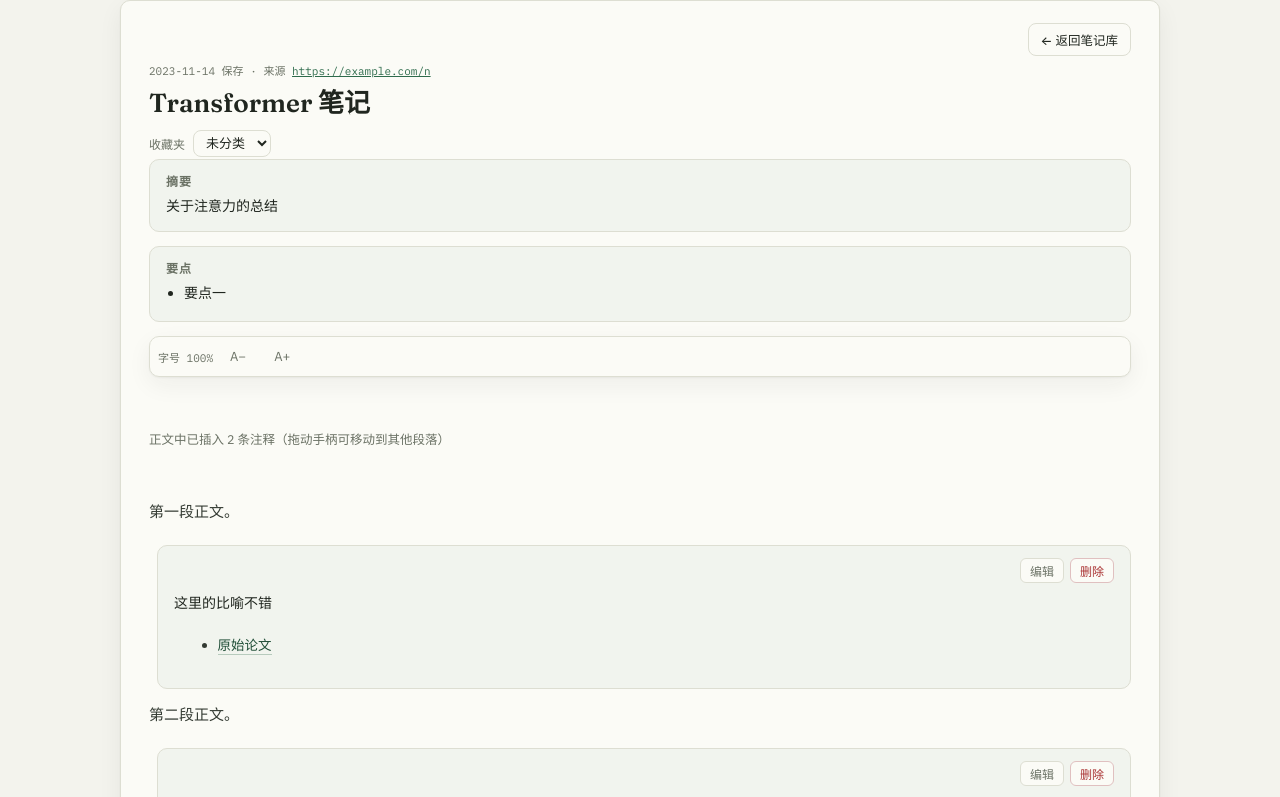
Test: NoteView 内联注释(编辑/确认) › 删除需两步确认：先点删除出现确认，点“确认删除”才真正删除
The width and height of the screenshot is (1280, 797).
Expected: the text "这里的比喻不错" is shown, [174,594,272,612]
Note: 第一次点击删除：不直接删，弹出确认
Click the button with aria-label "删除注释1" at coordinates (1092, 571), box [1070,558,1114,583]
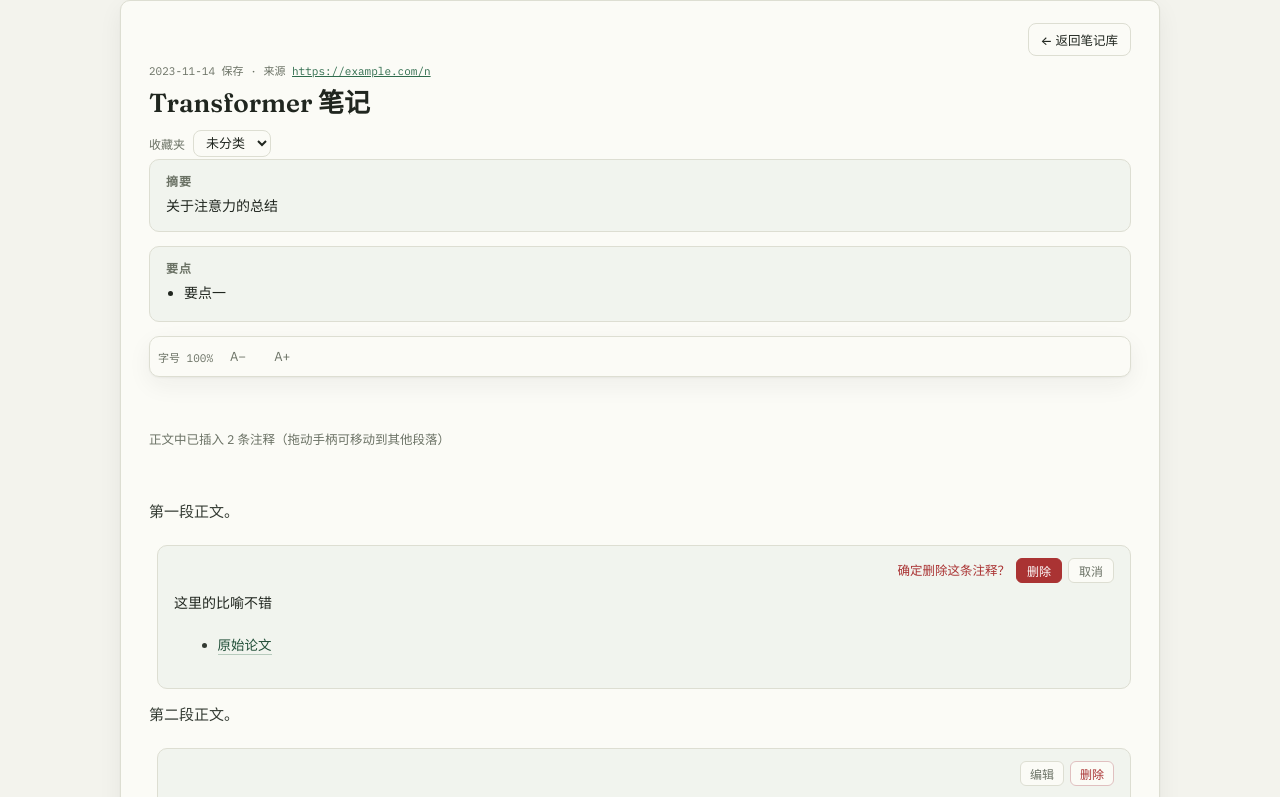
Expected: the text "这里的比喻不错" is shown, [174,594,272,612]
Now the button with aria-label "确认删除注释1" is shown
Note: 点“确认删除”后才消失
Click the button with aria-label "确认删除注释1" at coordinates (1039, 571), box [1016,558,1062,583]
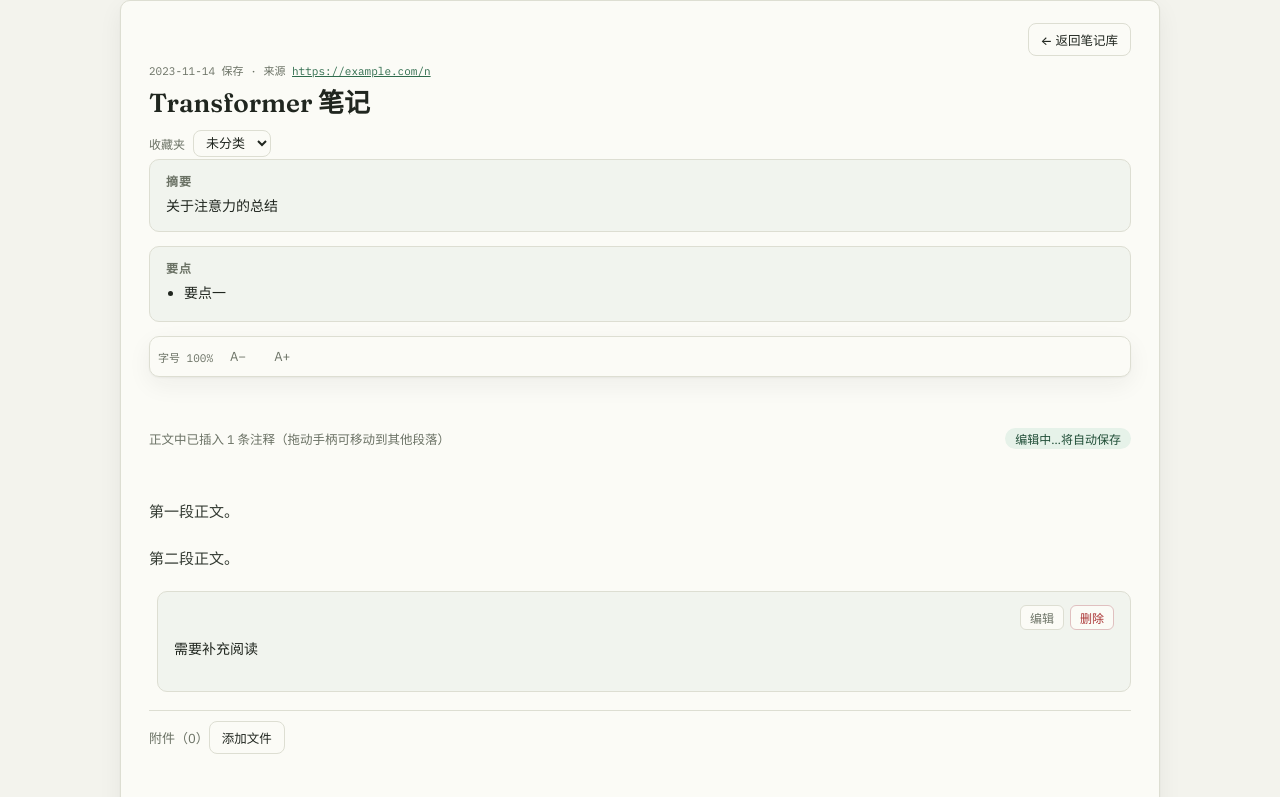
Now the text "这里的比喻不错" is gone
